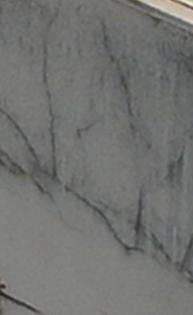fissura: (0, 114, 188, 292), (29, 13, 82, 181), (94, 12, 154, 153)
